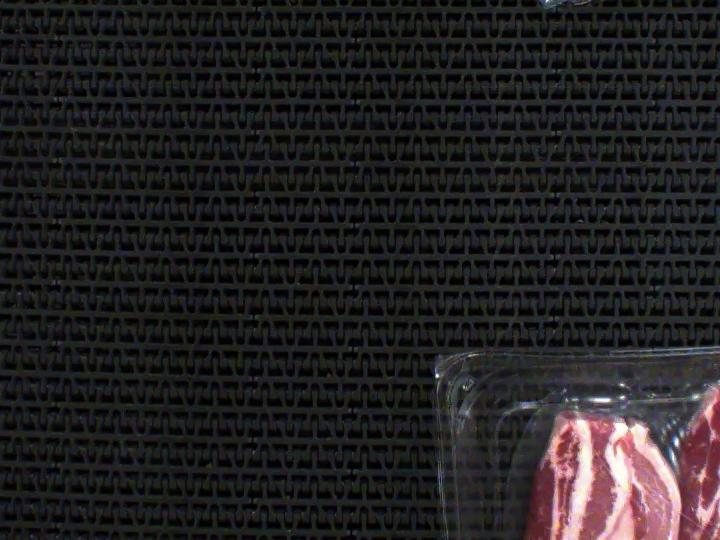unsealed: (492, 358, 720, 540)
